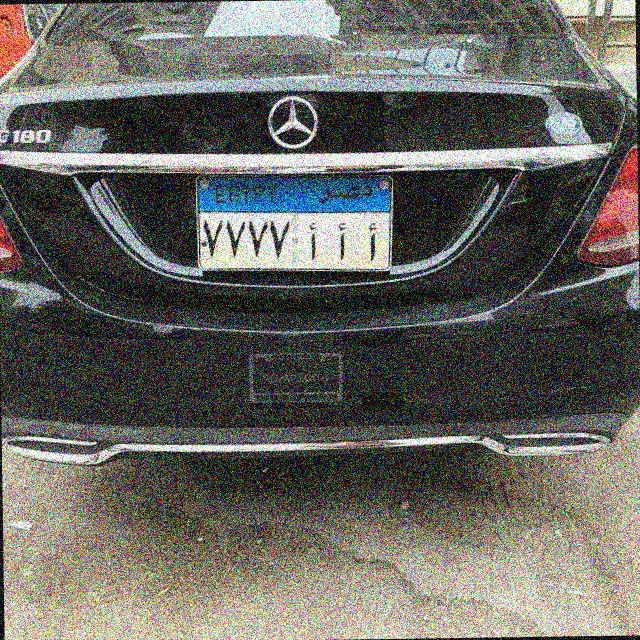License Plate: (189, 167, 398, 280)
